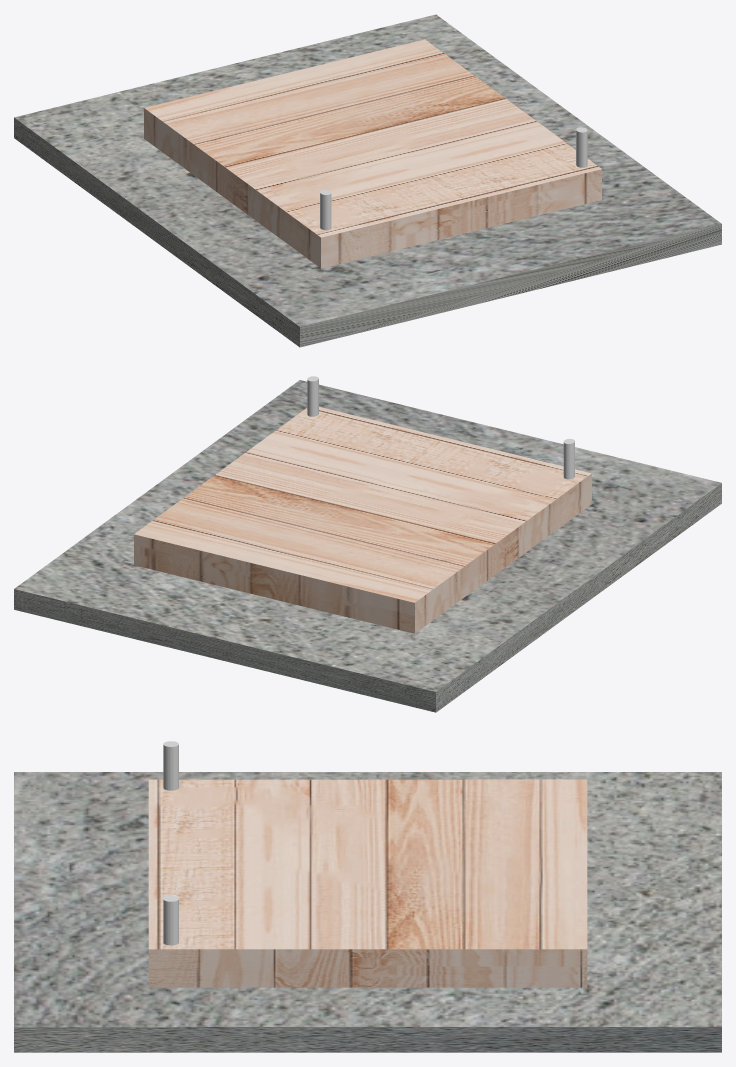
Rendered from teste.gltf.
The picture shows the model from 3 angles, top to bottom: view 1: azimuth 30°, elevation 25°; view 2: azimuth 150°, elevation 25°; view 3: azimuth 270°, elevation 25°; orthographic projection. The views are drawn at different scales.
Parts seen in each view (by area): view 1: Cube.002, Cube.001; view 2: Cube.002, Cube.001; view 3: Cube.002, Cube.001, Cylinder.002, Cylinder.000.
Boxes of the visible parts, bbox=[...] form: Cube.002: bbox=[14, 14, 721, 347]; Cube.001: bbox=[144, 39, 601, 268]; Cube.002: bbox=[14, 380, 721, 712]; Cube.001: bbox=[134, 407, 591, 633]; Cube.002: bbox=[14, 772, 721, 1052]; Cube.001: bbox=[148, 779, 587, 987]; Cylinder.002: bbox=[163, 741, 178, 790]; Cylinder.000: bbox=[163, 896, 178, 945].
Bounding box in the file's own units: 3.63 × 0.7142 × 4.26.
Materials: 4 (2 with a texture image).
